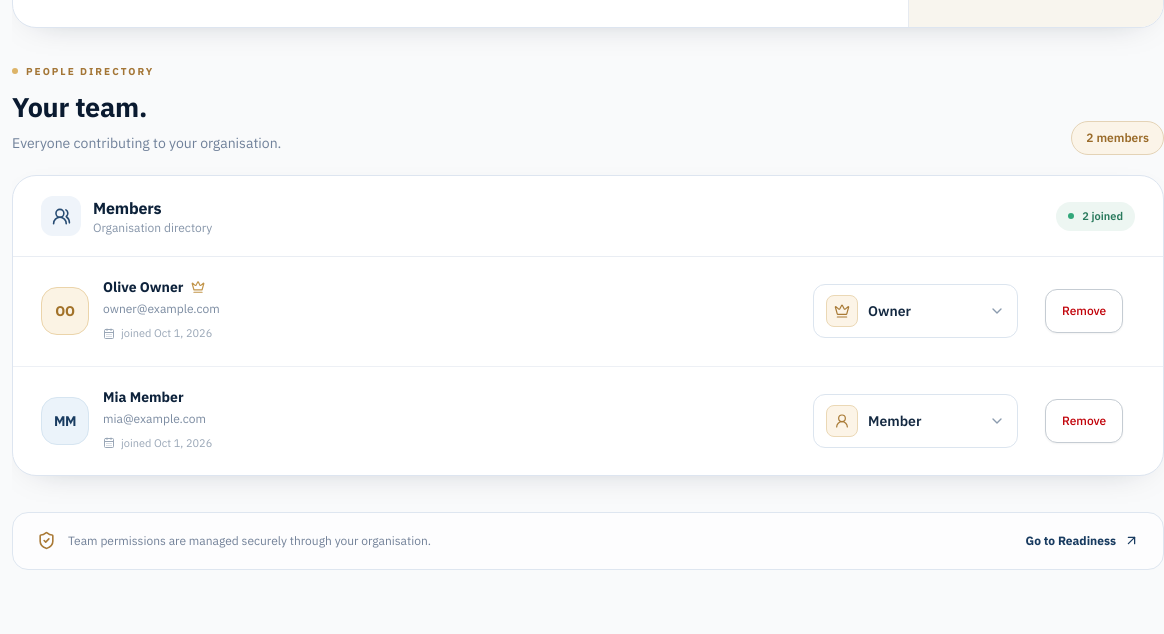
Test: TeamPage › removes a member after an inline confirmation
(page scrolled)
Click the button "Remove" in the row of "MM" at (1084, 421), box [1045,399,1123,443]
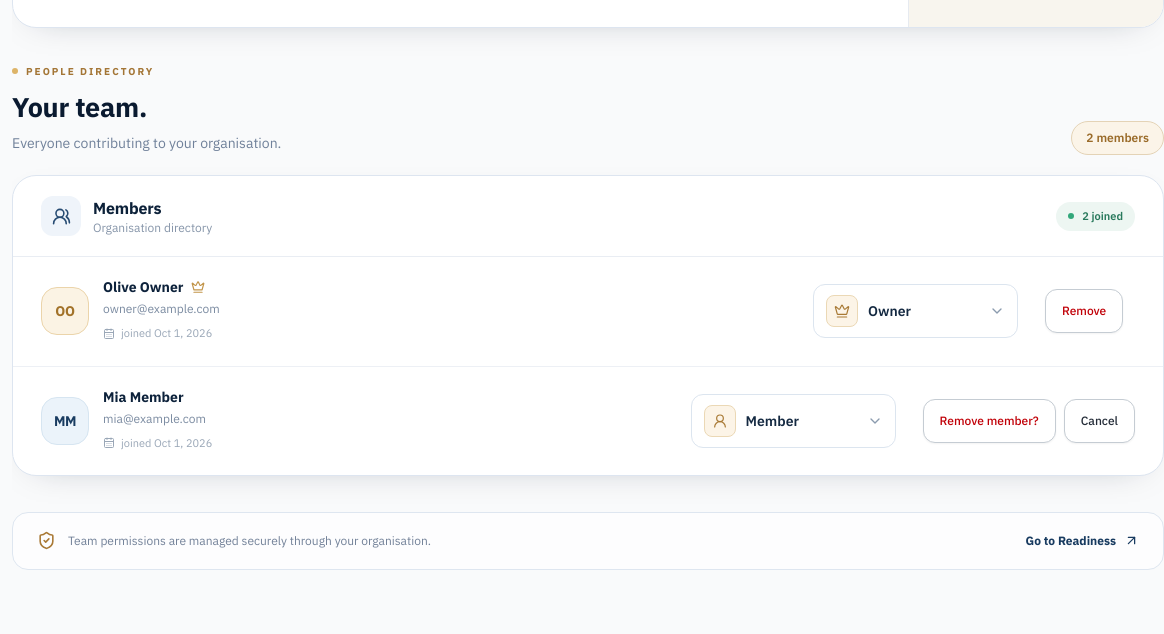
Click the button "Remove member?" at (989, 421), box [923,399,1056,443]
(page scrolled)
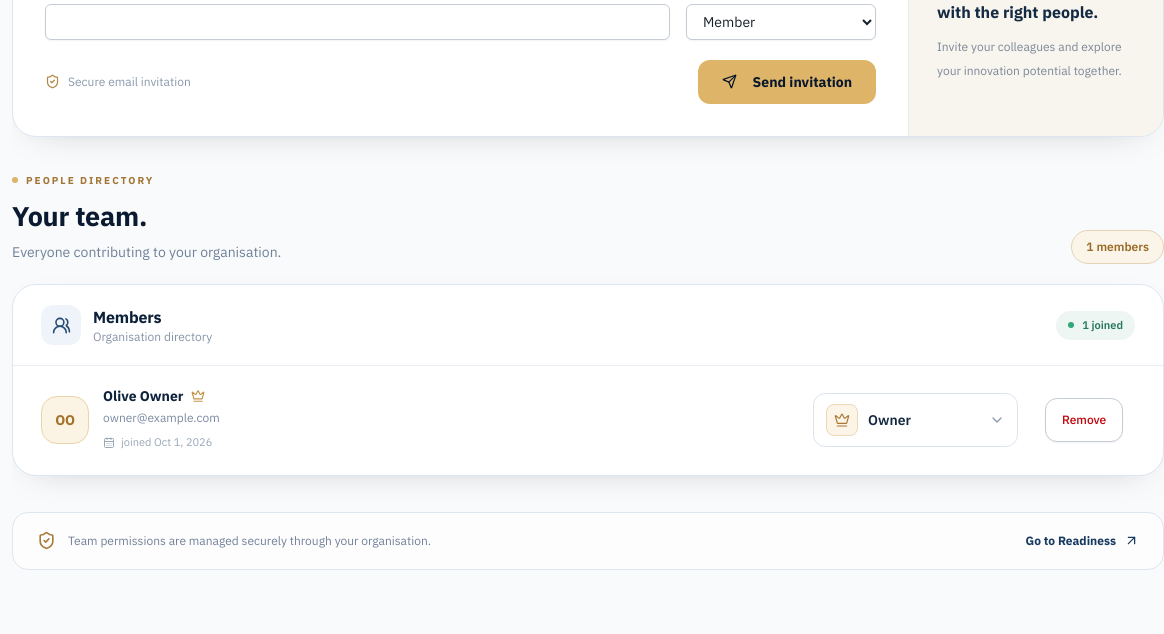
Now the text "Mia Member" is gone
